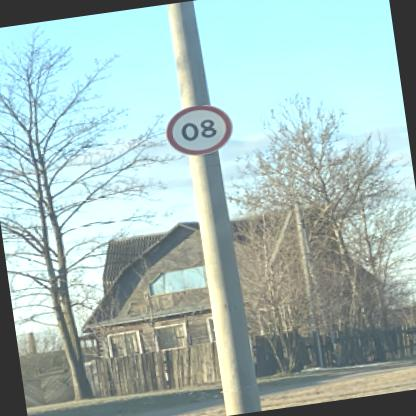speedlimit: (166, 99, 239, 158)
